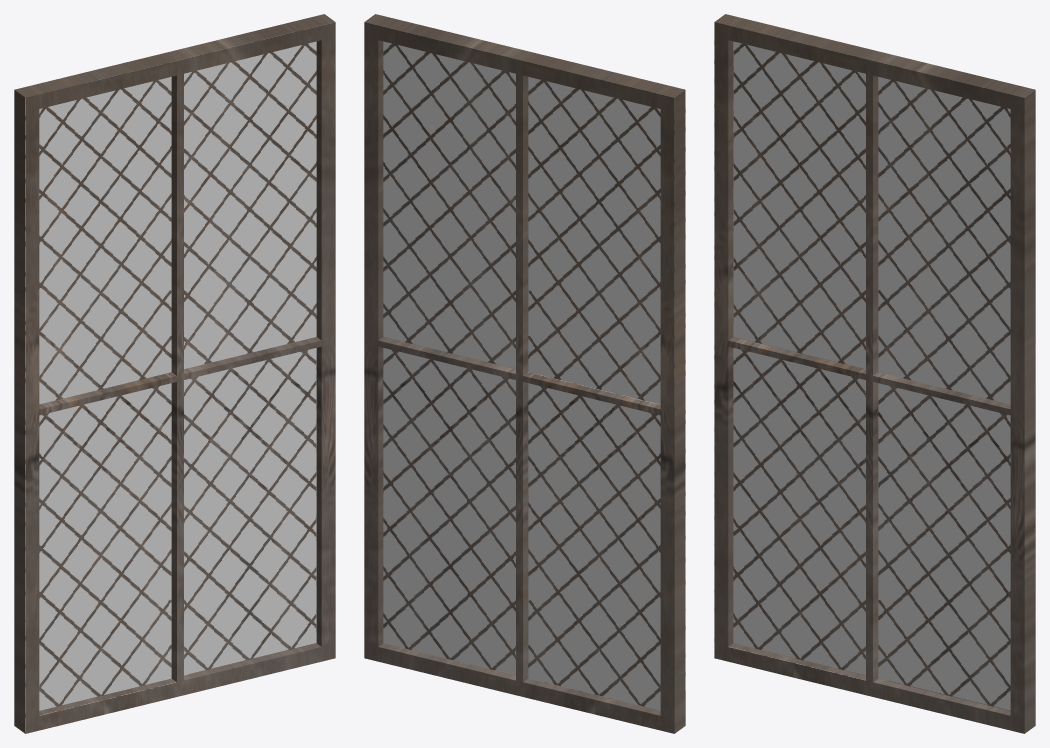
The model's file is ventana.fbx.
The picture shows the model from 3 angles, left to right: view 1: azimuth 30°, elevation 25°; view 2: azimuth 150°, elevation 25°; view 3: azimuth 330°, elevation 25°; orthographic projection.
Visible parts, largest first — view 1: ventana; view 2: ventana; view 3: ventana.
Part boxes in pixels (x1=…): ventana: x1=14, y1=14, x2=335, y2=733; ventana: x1=364, y1=14, x2=685, y2=733; ventana: x1=714, y1=14, x2=1035, y2=733.
Size of the model in its own units: 85.24 by 167 by 5.23.
